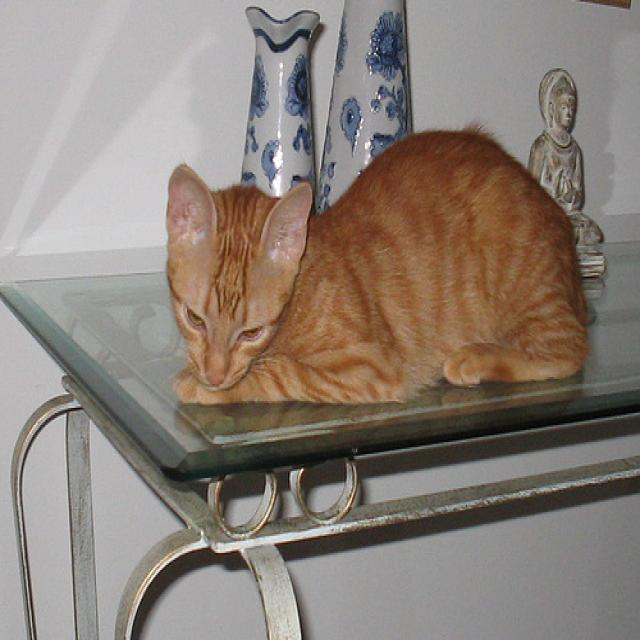left eye: (236, 321, 264, 343)
